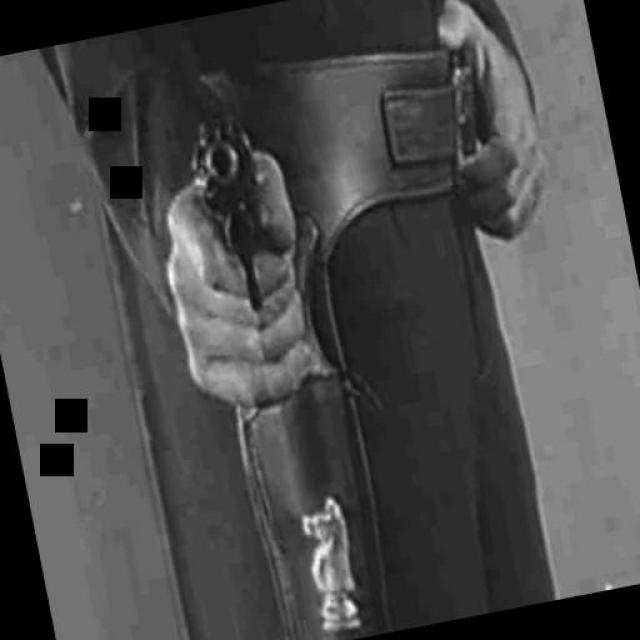gun: (185, 108, 289, 326)
